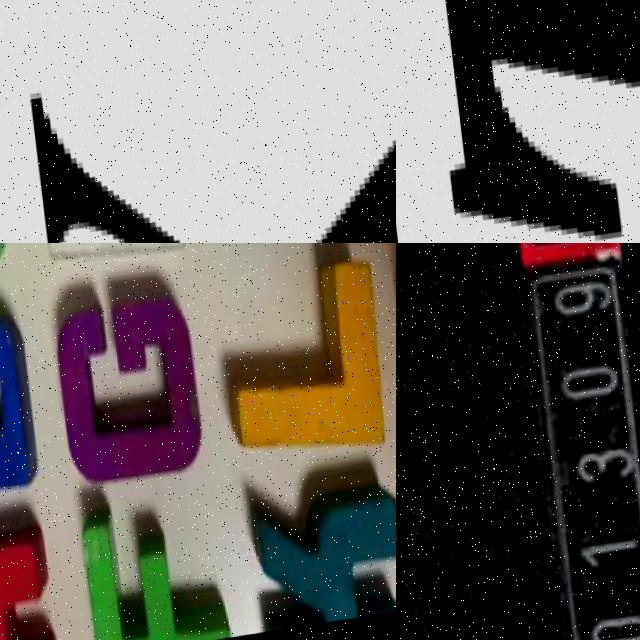0: (554, 365, 618, 407), (582, 615, 640, 640)
1: (571, 536, 637, 577)
3: (566, 446, 635, 494)
9: (543, 280, 612, 327)
A: (0, 530, 59, 640)
B: (0, 314, 30, 507)
F: (77, 501, 226, 640)
G: (49, 285, 198, 480)
K: (12, 0, 396, 243)
L: (214, 255, 390, 468)
T: (396, 0, 640, 243)
